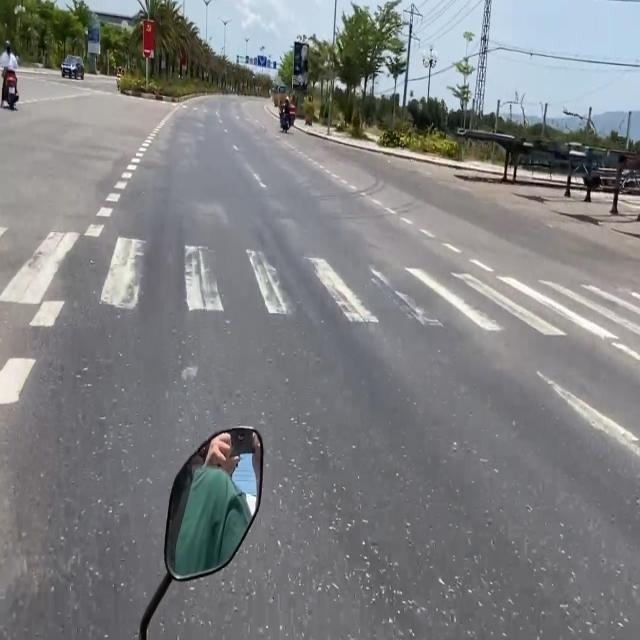walk-crossing: (0, 224, 640, 360)
